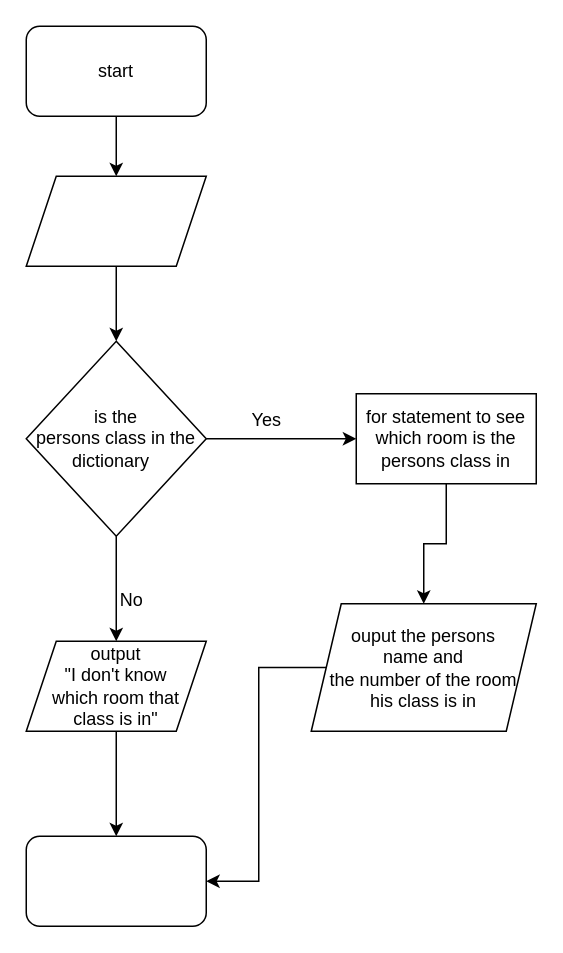
The diagram is 563 pixels wide and 953 high, and some of its shapes have lost their labels. Here are the shapes that lost their labels. From the top down, the box of each, then its label:
(25, 175, 206, 266): input person, persons class and classes dictionary
(25, 835, 206, 926): end
